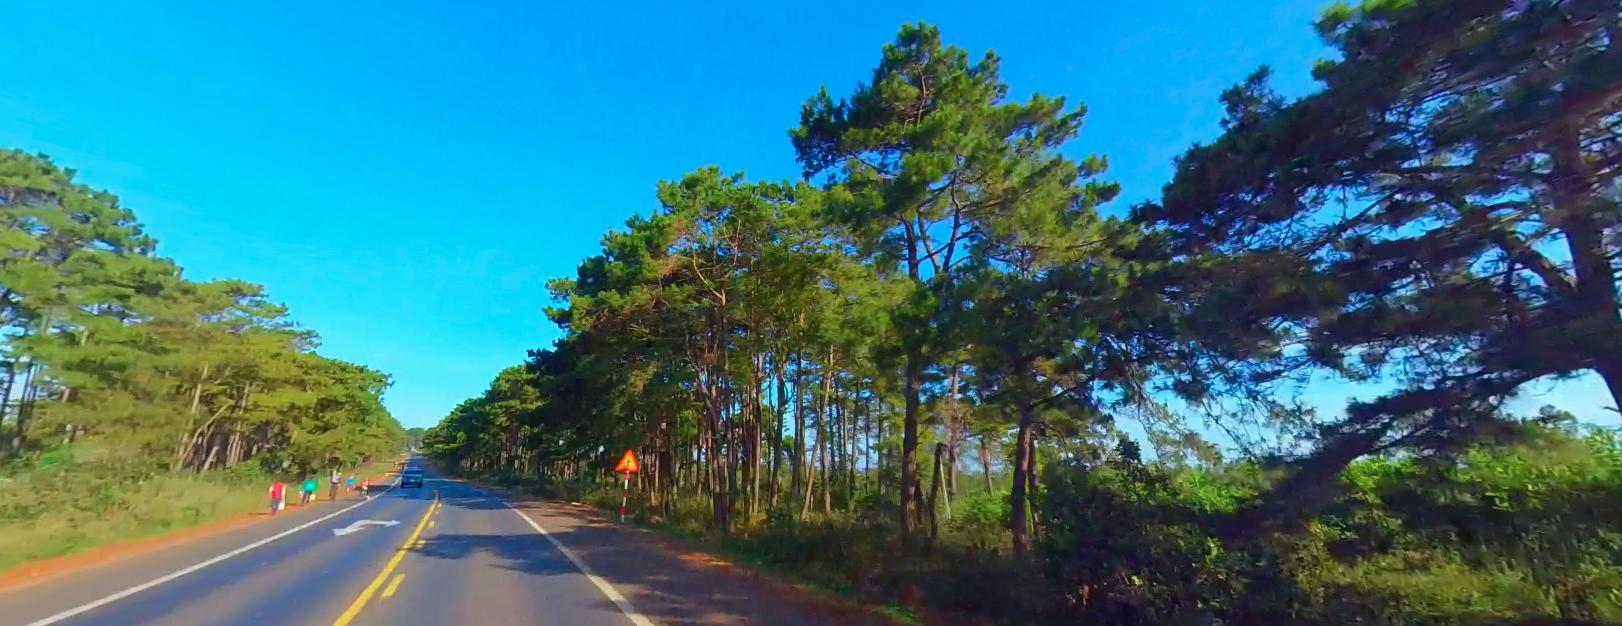Nguy hiem: (614, 447, 639, 470)
